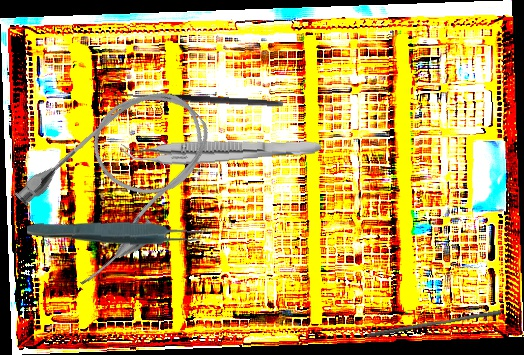Cannula: (4, 64, 239, 296)
Hook Surgical: (116, 90, 284, 116)
Pusher: (366, 304, 502, 344)
Tissue Forceps: (121, 129, 322, 169), (26, 217, 205, 249)
